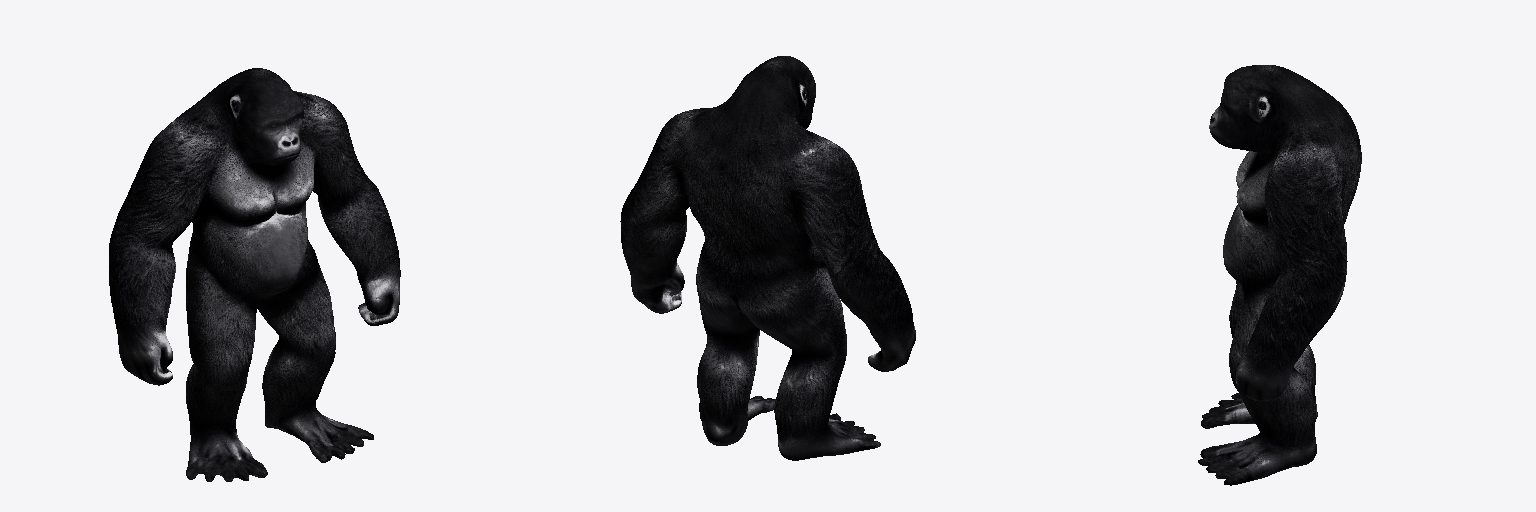
3 views of the same model, side by side, from view 1: azimuth 30°, elevation 25°; view 2: azimuth 150°, elevation 25°; view 3: azimuth 270°, elevation 25° (orthographic).
Visible parts, largest first — view 1: Gorilla_Quad; view 2: Gorilla_Quad; view 3: Gorilla_Quad.
Part boxes in pixels (bbox=[...]): Gorilla_Quad: bbox=[109, 68, 400, 481]; Gorilla_Quad: bbox=[620, 56, 915, 460]; Gorilla_Quad: bbox=[1198, 65, 1361, 485].
Bounding box in the file's own units: 1.3 × 1.7 × 0.6673.
Materials: 1 (1 with a texture image).